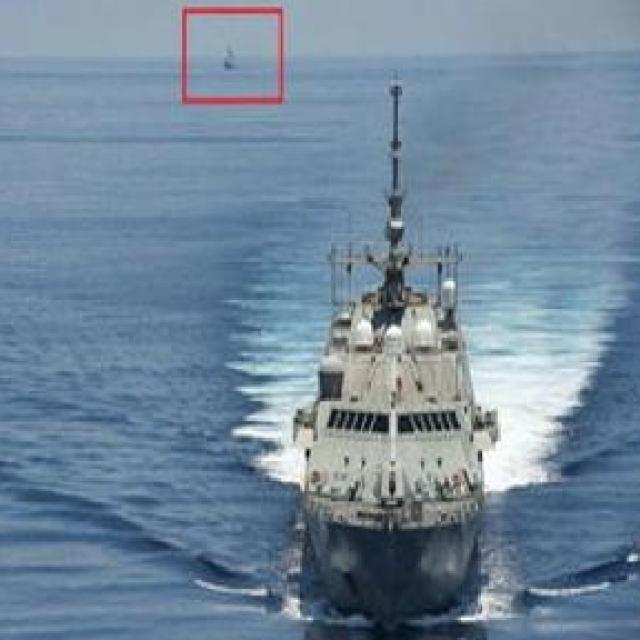navalvessels: (284, 108, 503, 609)
